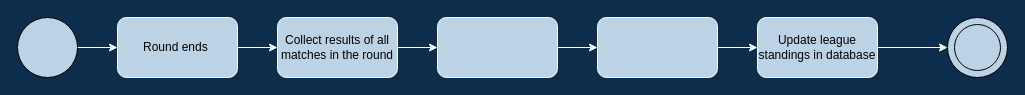
Some shapes in this 1025 by 95 pixel diagram are drawn without their labels. Here are the shapes that lost their labels. From the top down, the centre of each, then its label:
the point at 497,47: Calculate total points
the point at 657,47: Sort teams by: Points . Goal difference
